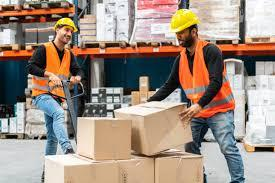Boxes: (114, 98, 196, 157), (75, 114, 132, 161), (46, 155, 118, 183), (154, 155, 205, 183)
